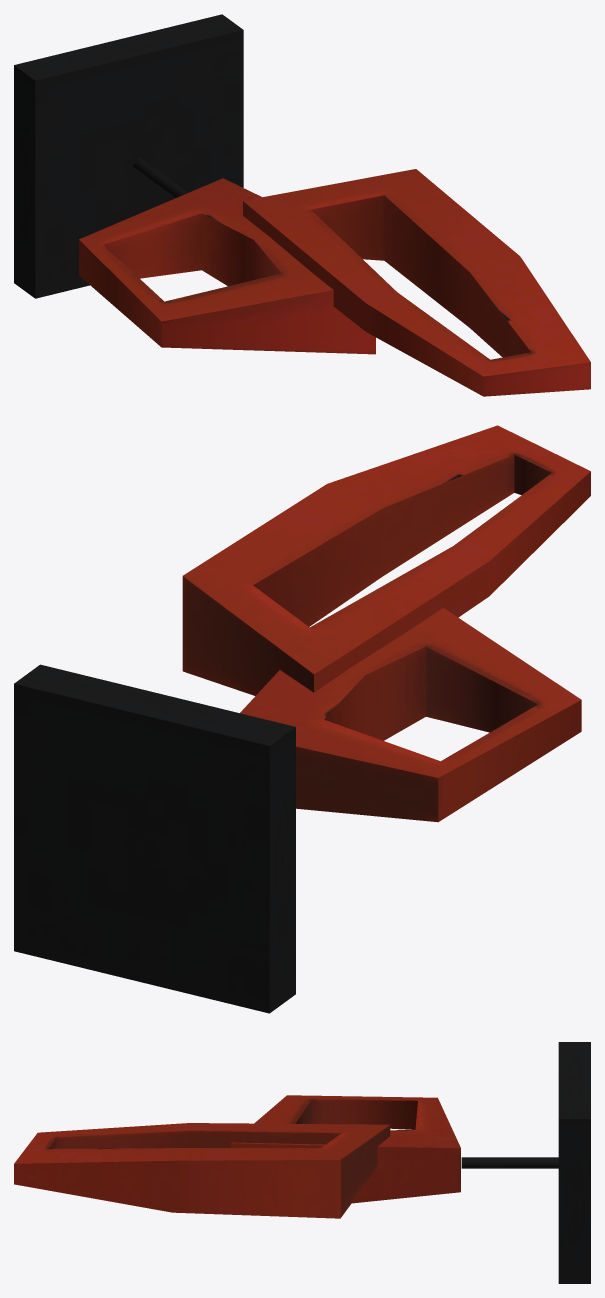
Rendered from nt_2020_sculpture_01_LOD1.obj.
3 renders of one model, top to bottom at view 1: azimuth 30°, elevation 25°; view 2: azimuth 150°, elevation 25°; view 3: azimuth 270°, elevation 25°, orthographic. The views are drawn at different scales.
Visible parts, largest first — view 1: mtl_nt_2020_sculpture_01; view 2: mtl_nt_2020_sculpture_01; view 3: mtl_nt_2020_sculpture_01.
Part boxes in pixels (box(x1,y1,x2,y2)): mtl_nt_2020_sculpture_01: box(14, 14, 590, 396); mtl_nt_2020_sculpture_01: box(14, 425, 590, 1013); mtl_nt_2020_sculpture_01: box(14, 1042, 590, 1283).
Size of the model in its own units: 33.39 by 23.99 by 76.08.
